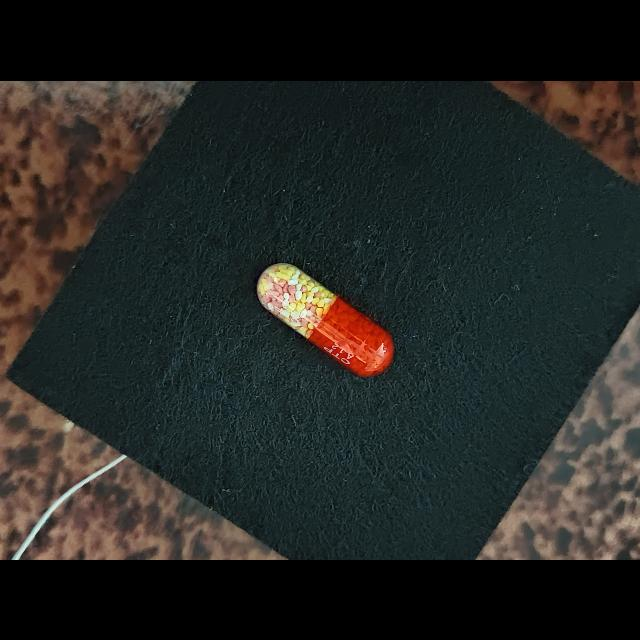Intact Capsule: (257, 262, 394, 376)
